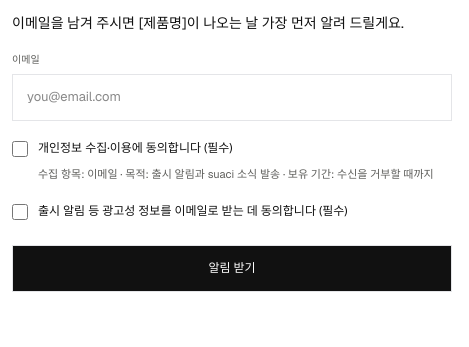
Test: WaitlistForm › 서버 오류 코드 → 맞는 문구, 모르는 오류 → 다시 시도 버튼으로 같은 값을 다시 보낸다
Type "a@b.co" into the field labelled "이메일". click: (232, 98)
box: [12, 74, 452, 121]
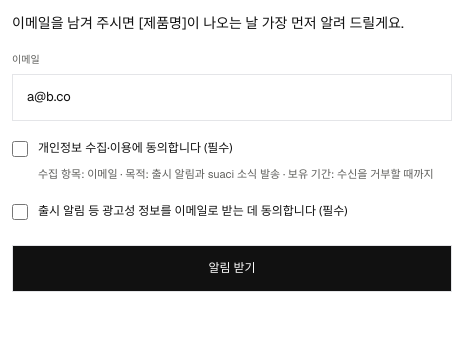
Click the checkbox labelled "개인정보 수집·이용에 동의합니다 (필수)". click: (20, 149)
box: [12, 141, 28, 157]
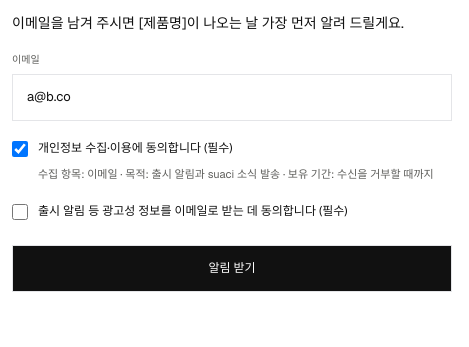
Click the checkbox labelled "출시 알림 등 광고성 정보를 이메일로 받는 데 동의합니다 (필수)". click: (20, 212)
box: [12, 204, 28, 220]
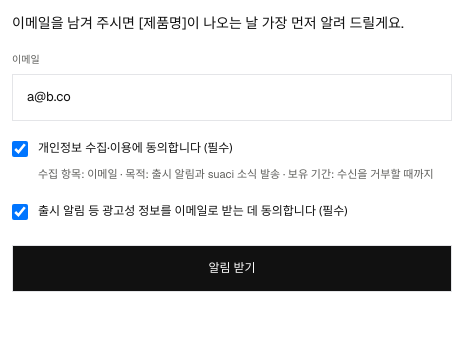
Click the button "알림 받기". click: (232, 269)
box: [12, 245, 452, 292]
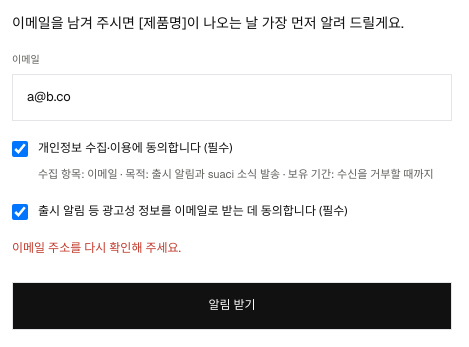
Now the message reads "이메일 주소를 다시 확인해 주세요.", box [12, 240, 181, 256]
Click the button "알림 받기". click: (232, 306)
box: [12, 282, 452, 330]
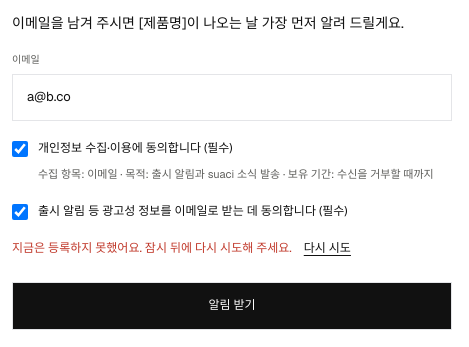
Now the message shows "지금은 등록하지 못했어요", box [12, 240, 292, 256]
Click the button "다시 시도". click: (327, 249)
box: [304, 239, 351, 258]
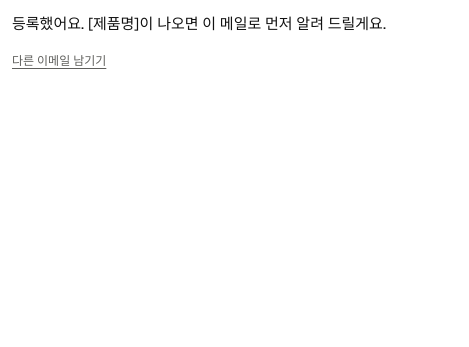
Now the text "등록했어요. [제품명]이 나오면 이 메일로 먼저 알려 드릴게요." is shown, box [12, 12, 386, 36]
